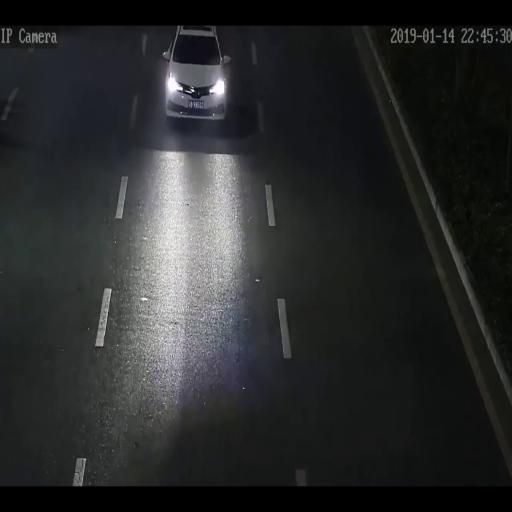License plate: (188, 100, 204, 109)
Vehicle: (162, 25, 231, 121)
